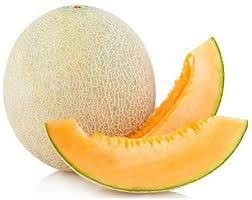Melon Ripe: (4, 5, 156, 171), (44, 117, 248, 193)
